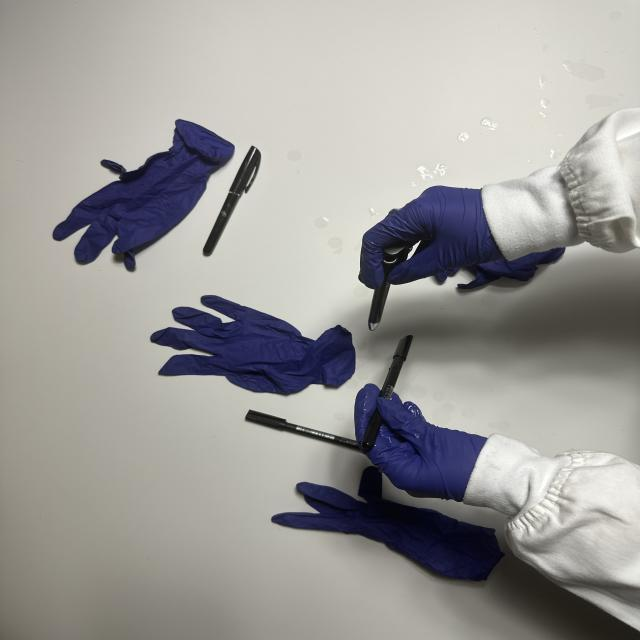gloves_contaminated: (354, 384, 486, 502), (359, 186, 504, 289)
